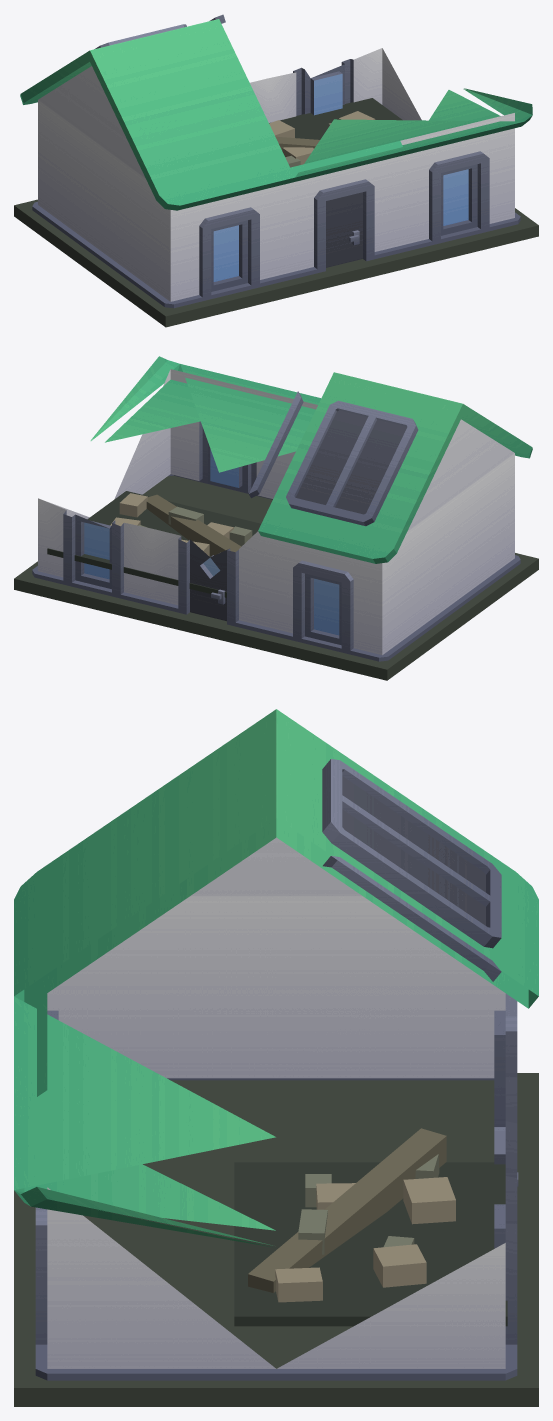
The model's file is building-type-h-ruined.glb.
3 views of the same model, one above another, from view 1: azimuth 30°, elevation 25°; view 2: azimuth 150°, elevation 25°; view 3: azimuth 270°, elevation 25° (orthographic). The views are drawn at different scales.
Parts seen in each view (by area): view 1: building-type-h-ruined; view 2: building-type-h-ruined; view 3: building-type-h-ruined.
Boxes of the visible parts, <box> form: building-type-h-ruined: <box>14,14,538,327</box>; building-type-h-ruined: <box>14,356,538,680</box>; building-type-h-ruined: <box>14,709,538,1406</box>.
Bounding box in the file's own units: 1.3 × 0.7375 × 0.916.
6 materials, 1 textured.
